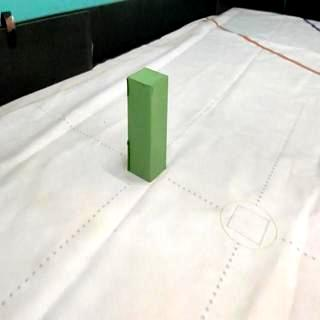greenbox: (128, 67, 168, 182)
